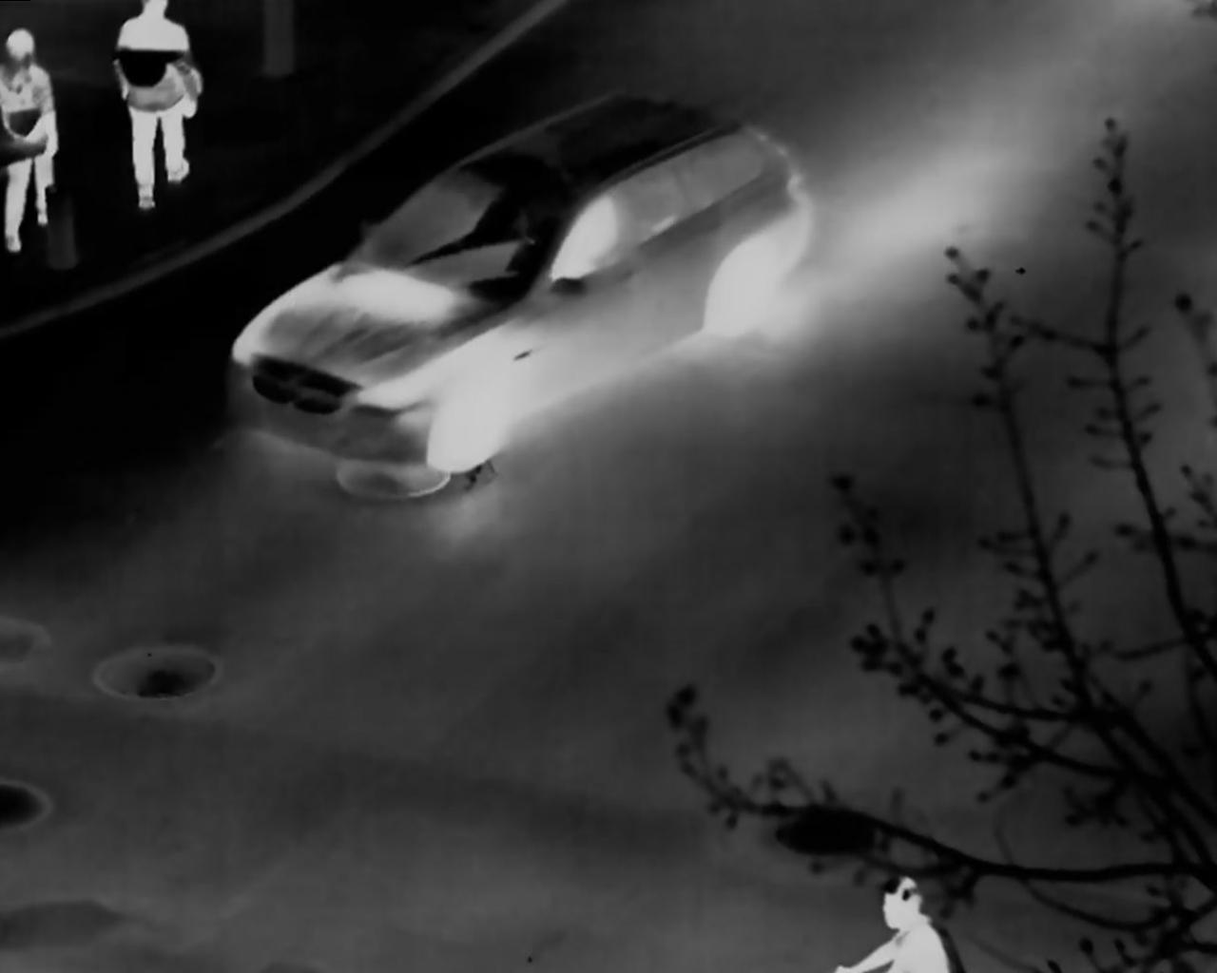person: (112, 5, 207, 213), (837, 886, 942, 973)
